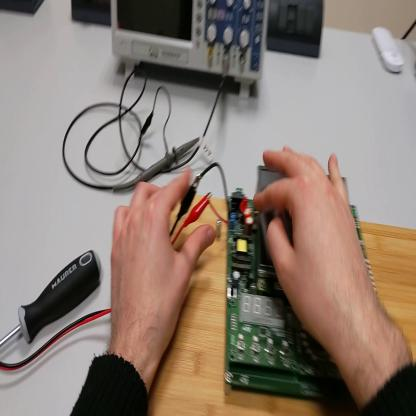hand: (255, 146, 376, 351), (110, 166, 215, 363)
low voltage board: (205, 161, 385, 407)
oscilloscope: (113, 2, 269, 99)
oscilloscope probe tip: (112, 136, 202, 193)
screwdriver-: (1, 248, 101, 348)
socket: (71, 2, 114, 27), (1, 1, 46, 17)
working area: (146, 196, 416, 416)
